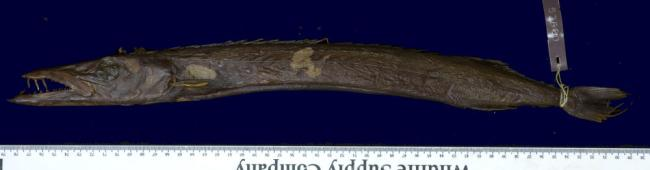fish: (7, 39, 628, 122)
